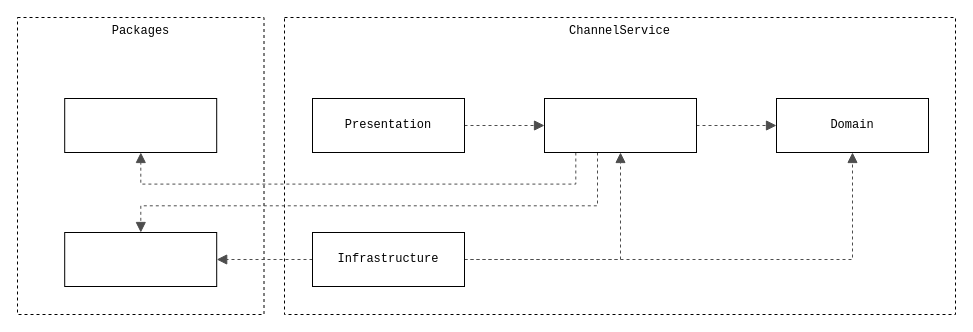
Some shapes in this 973 by 332 pixel diagram are drawn without their labels. Each missing label, with the centre of its shape:
"Application" goes at point 620,125.
"MessageClient" goes at point 140,259.
"Shared.Contracts" goes at point 140,125.
